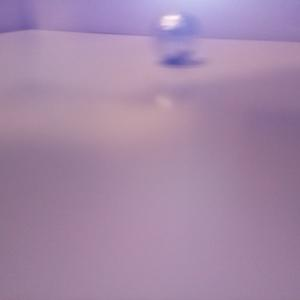alive_ball: (149, 11, 198, 64)
